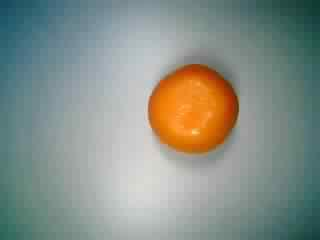orange: (146, 61, 241, 163)
